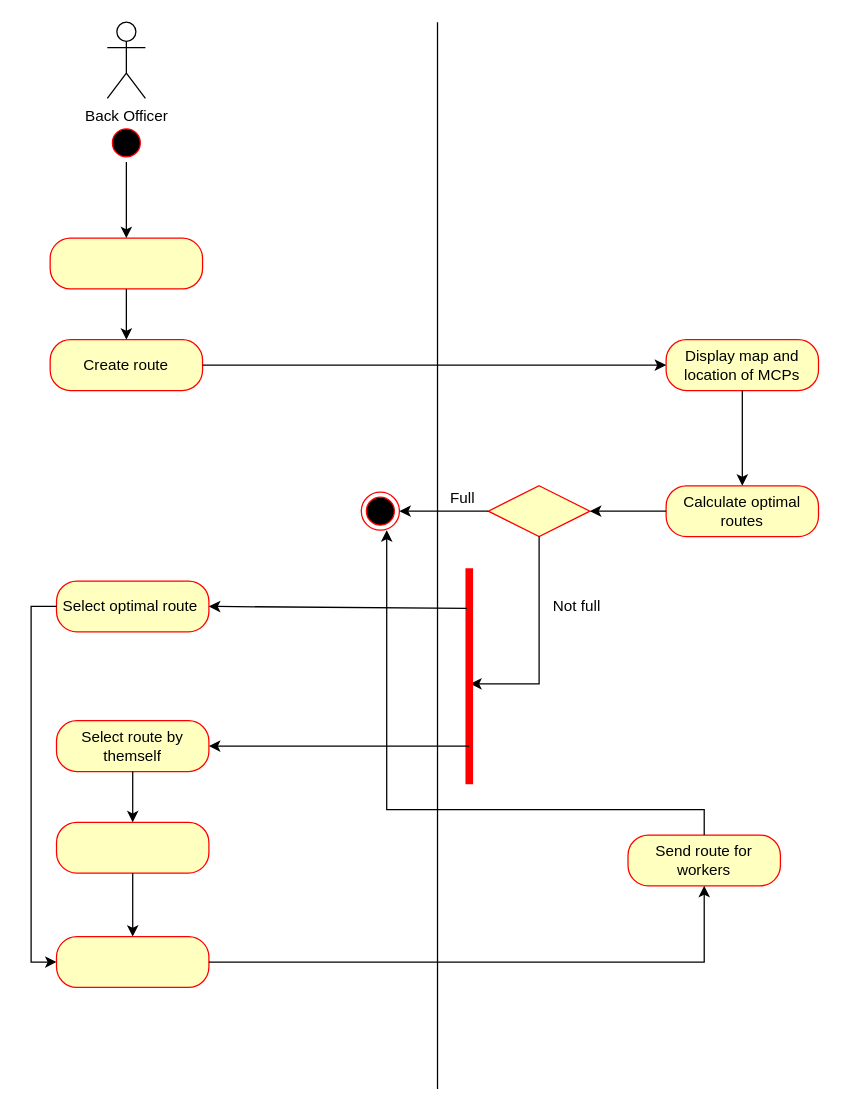
The diagram is 841 pixels wide and 1113 high, and some of its shapes have lost their labels. Each missing label, with the box of its shape:
Check: (487, 485, 590, 537)
Confirm: (55, 935, 209, 987)
Edit route: (55, 821, 209, 873)
Login to the system: (49, 237, 203, 289)
